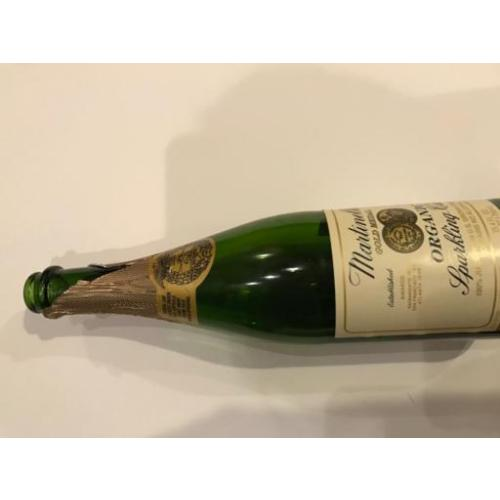glass: (29, 207, 498, 339)
